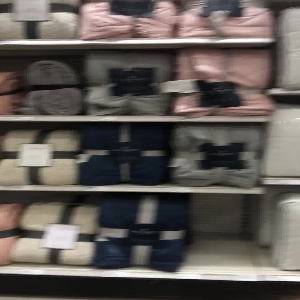void: (193, 193, 272, 272)
